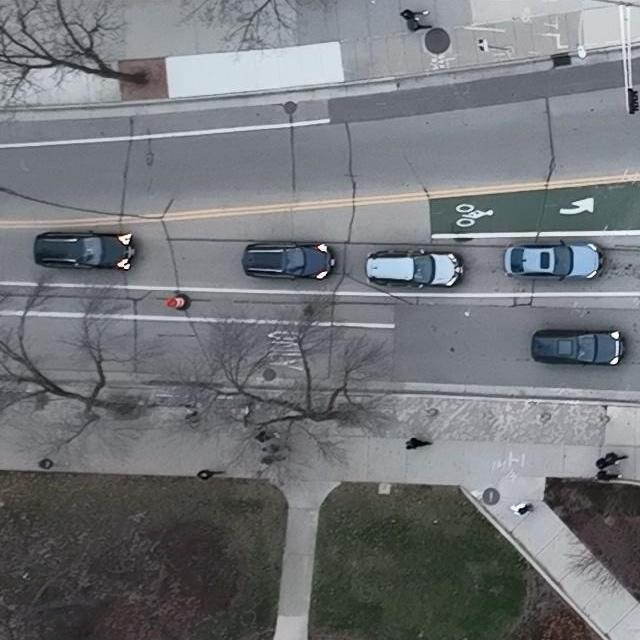car: (505, 241, 607, 283), (33, 231, 138, 271), (366, 249, 466, 290), (532, 328, 628, 367), (243, 242, 337, 281)
